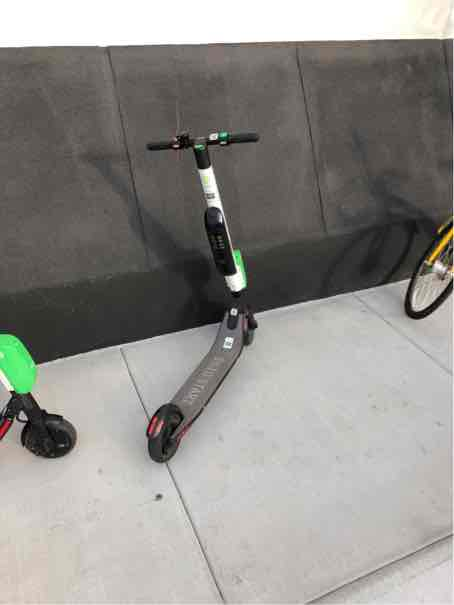scooter: (136, 128, 279, 472)
